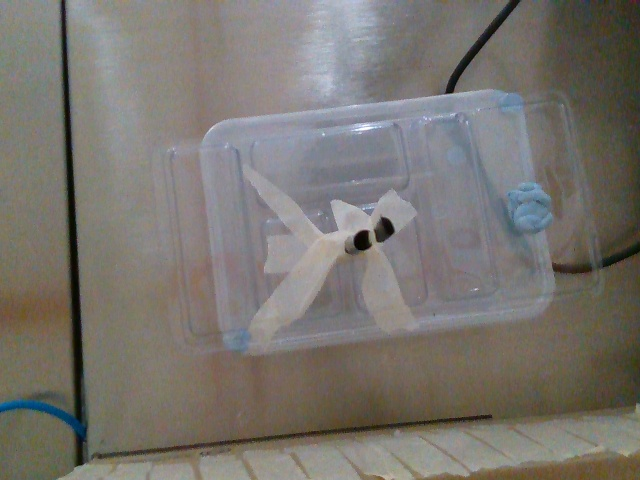test_strip: (368, 214, 394, 242)
